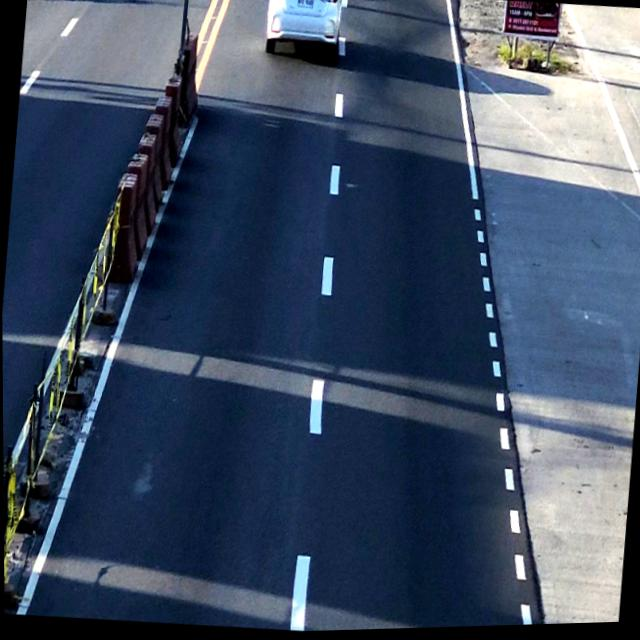Car: (258, 0, 349, 58)
License-Plate: (294, 0, 316, 11)
